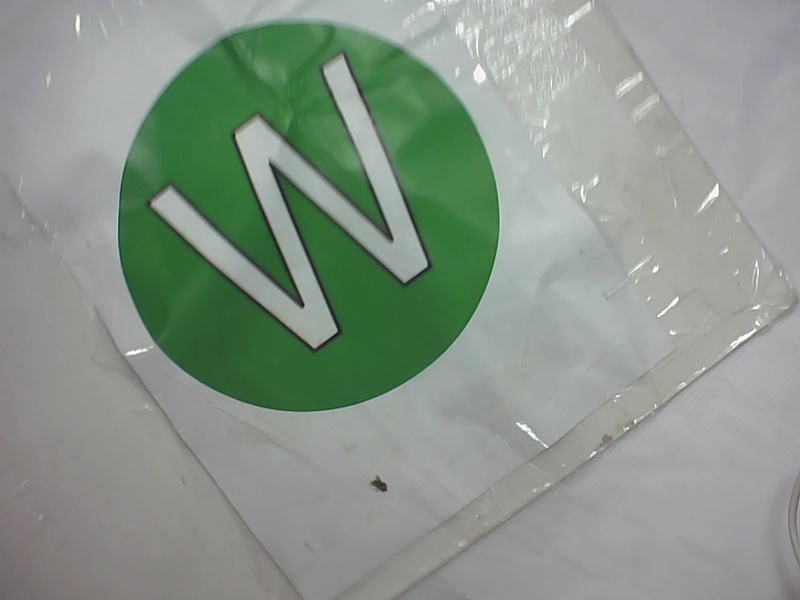areaB: (97, 14, 525, 422)
